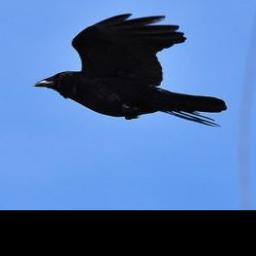Crow: (33, 13, 228, 129)
